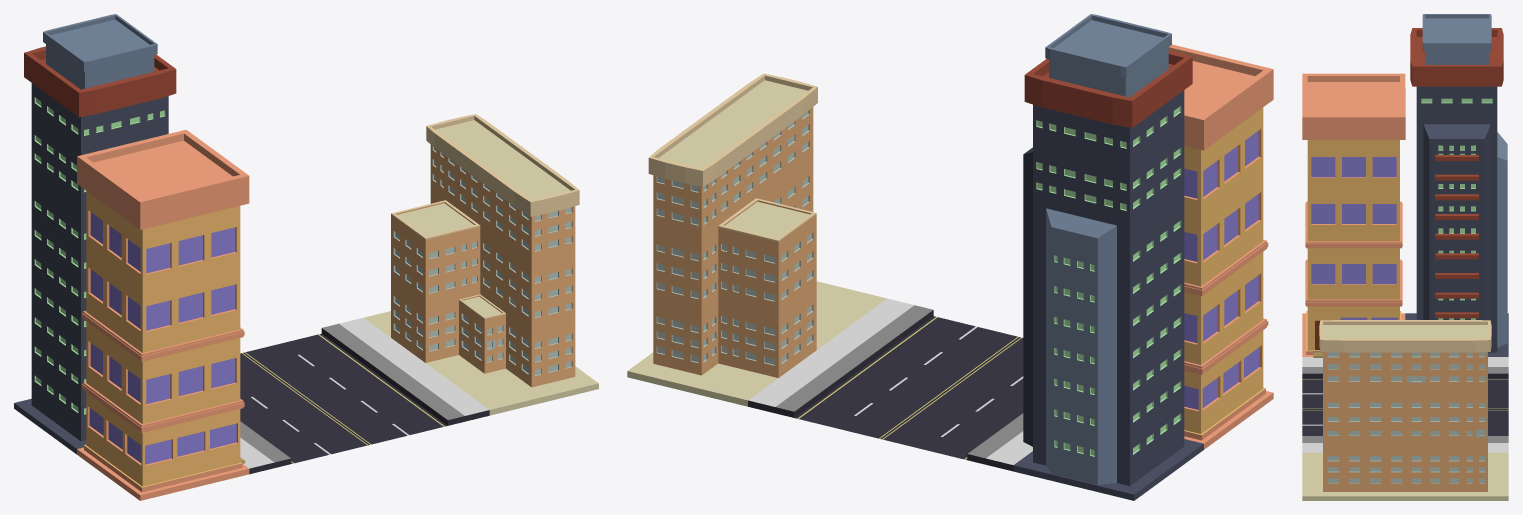
File: Road set 3.fbx
3 renders of one model, left to right at view 1: azimuth 30°, elevation 25°; view 2: azimuth 150°, elevation 25°; view 3: azimuth 270°, elevation 25°, orthographic. The views are drawn at different scales.
Parts seen in each view (by area): view 1: Road set - 3; view 2: Road set - 3; view 3: Road set - 3.
Part boxes in pixels (x1,y1,x2,y2): Road set - 3: (14,14,598,500); Road set - 3: (627,14,1273,500); Road set - 3: (1302,14,1508,500).
Size of the model in its own units: 42 by 33.28 by 20.
